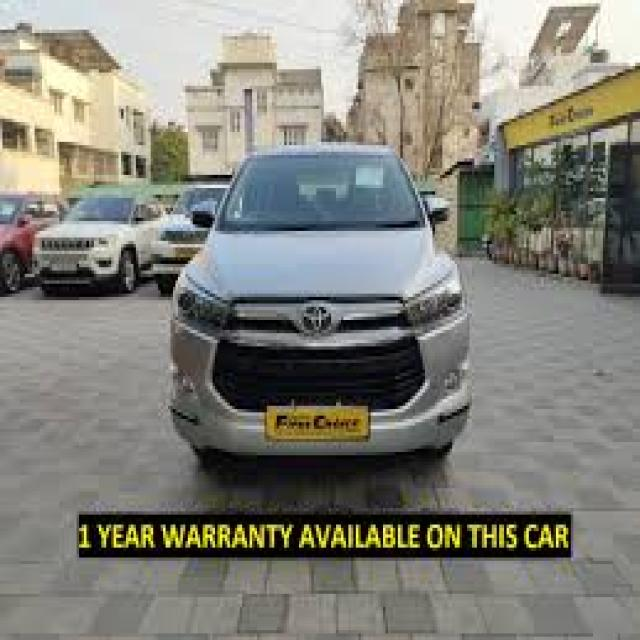light_vehicle: (168, 142, 472, 456)
